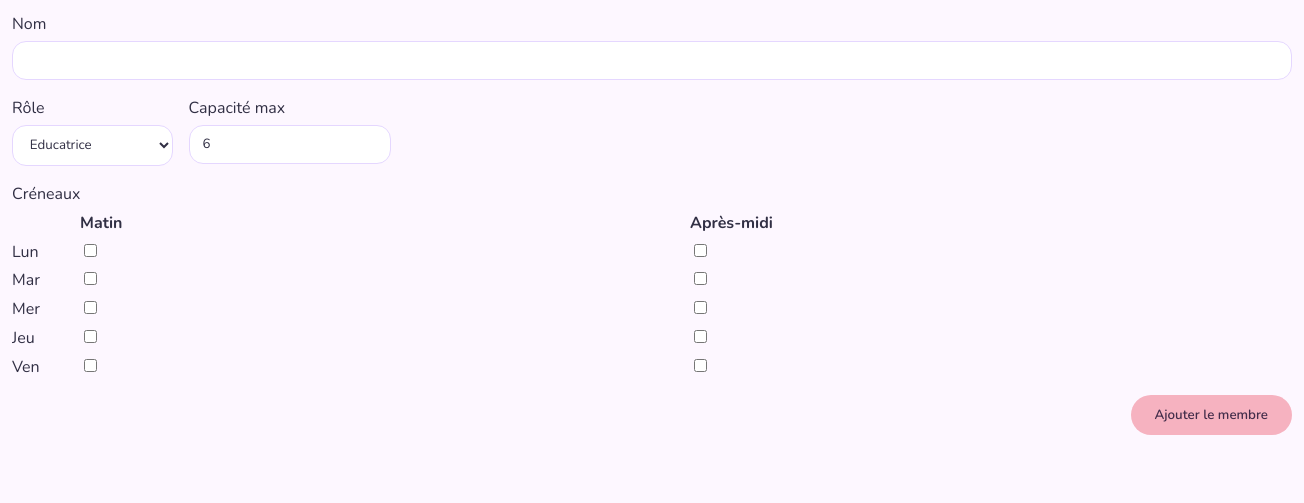
it: StaffForm › requires a name and at least one schedule slot
Click the button "Ajouter le membre". click: (1211, 415)
box: [1130,395,1292,435]
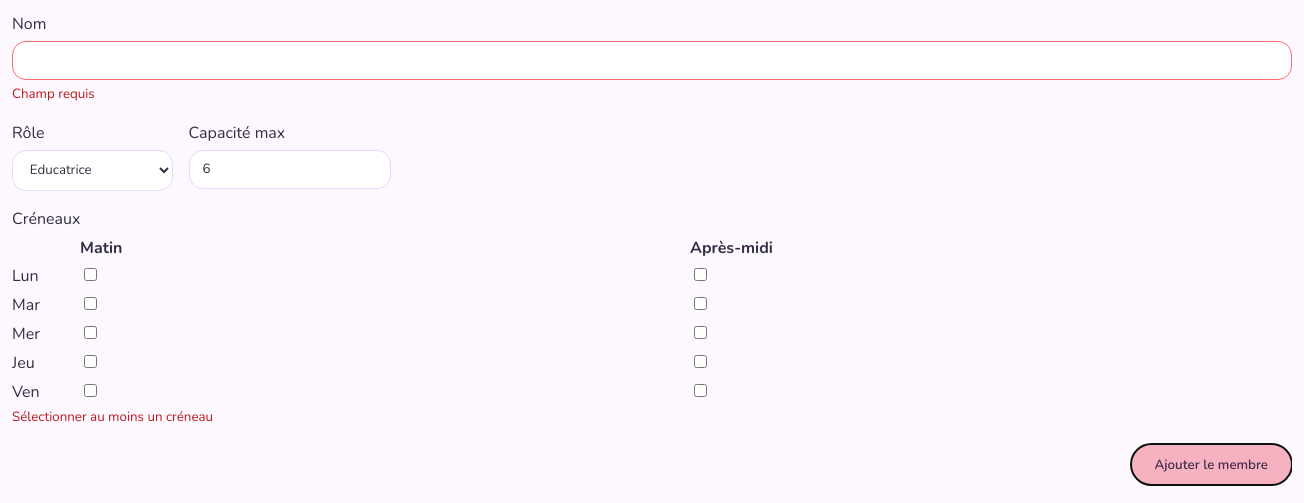
Check: the text "Champ requis" is shown, box [12,85,95,103]
Check: the text "Sélectionner au moins un créneau" is shown, box [12,408,213,426]
